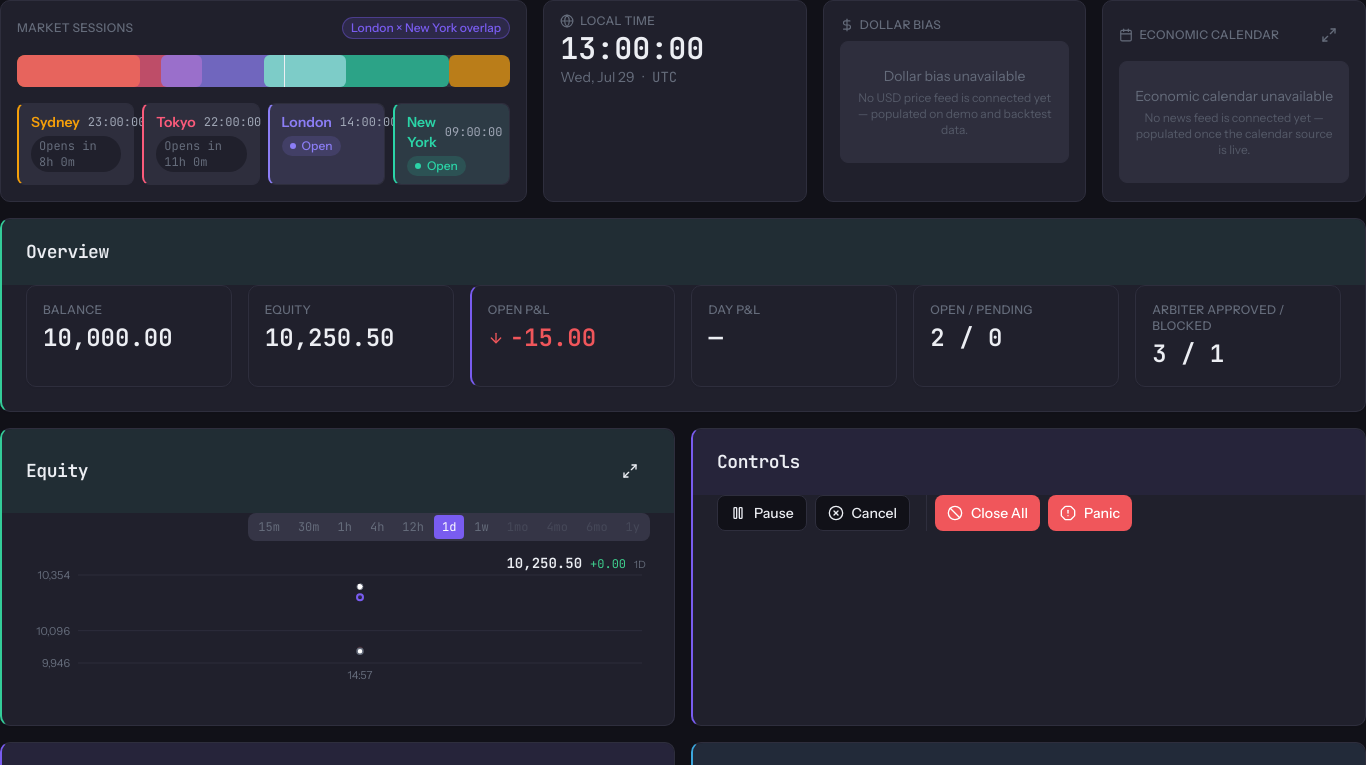
OverviewPage › disables the Controls buttons once read-only is true
Click the button "Pause" at (762, 513), box [717,495,807,531]
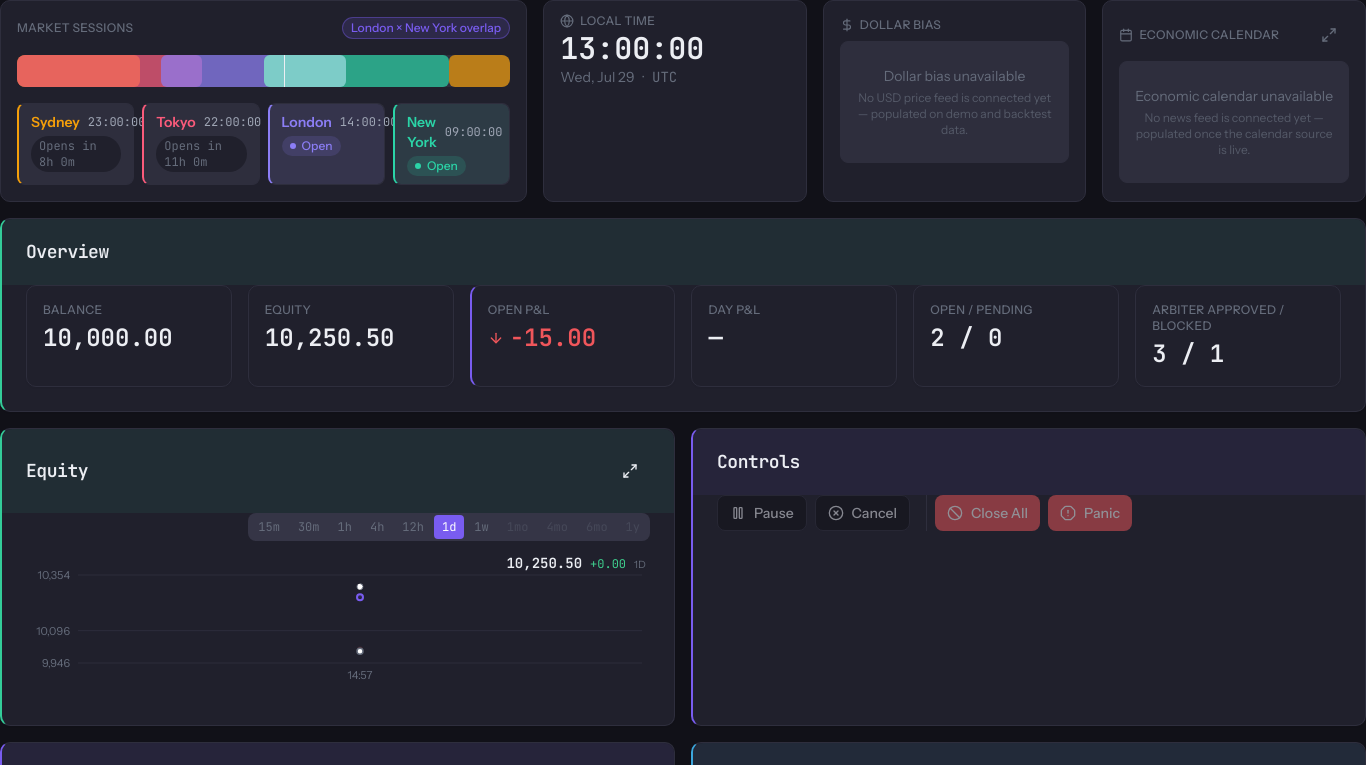
Expected: the button "Pause" is disabled, [717,495,807,531]
Expected: the button "Cancel" is disabled, [815,495,910,531]
Expected: the button "Close All" is disabled, [935,495,1040,531]
